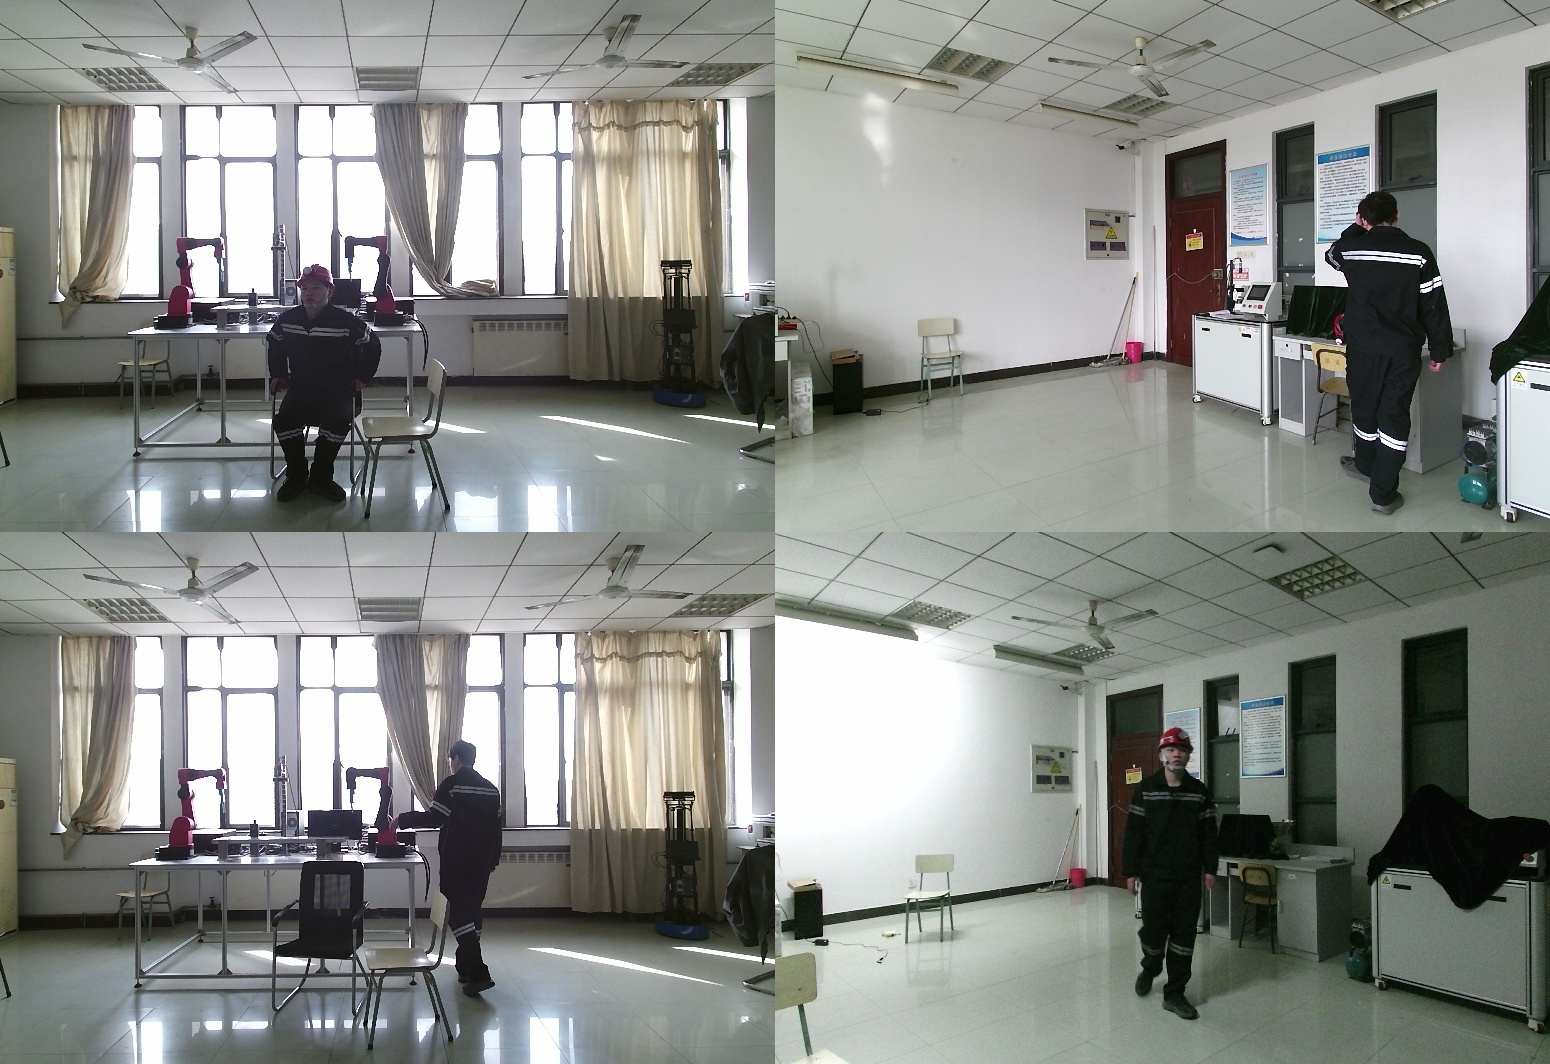person: (1334, 191, 1469, 511), (1119, 728, 1231, 1016), (266, 264, 390, 503), (405, 750, 509, 999)
